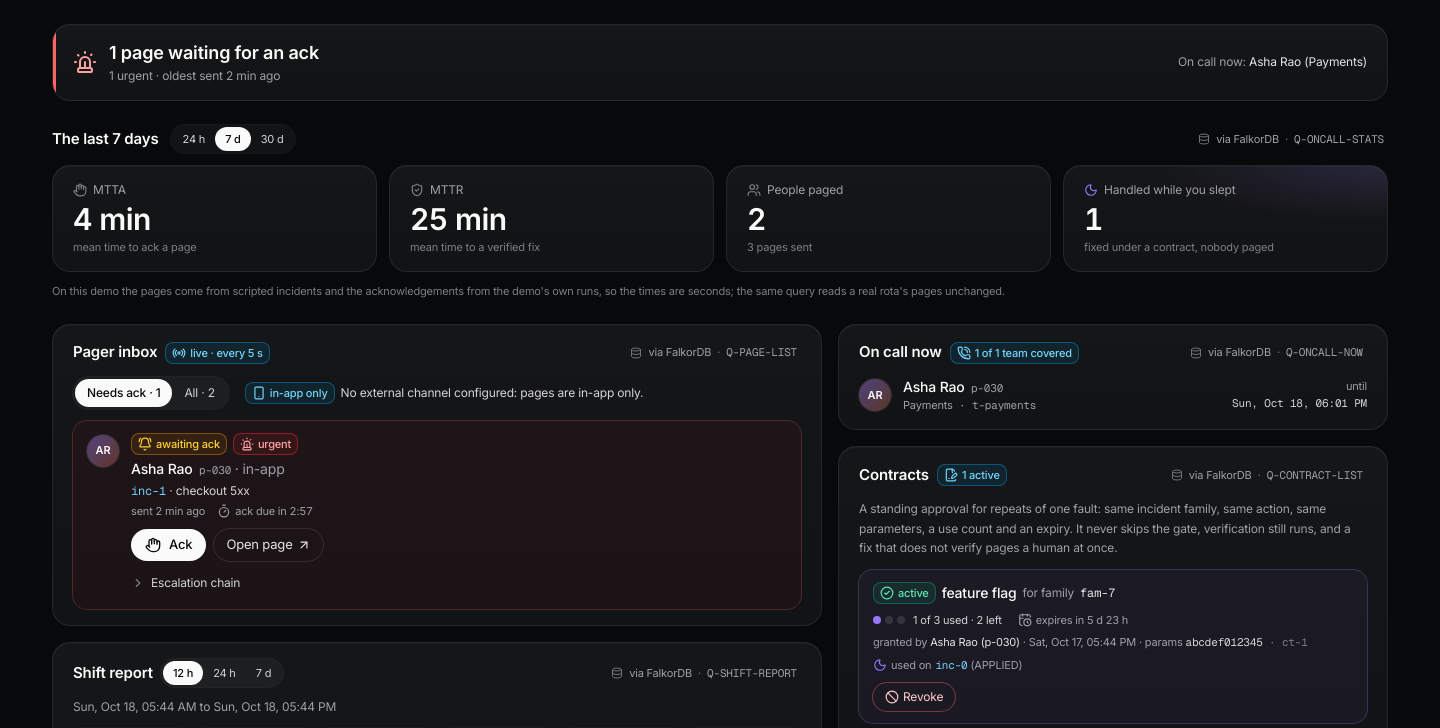
Test: /oncall › a refused ack opens the approver key field and says why
Click the button with aria-label "Ack the page to Asha Rao" at x=169, y=545, box [131,529,206,561]
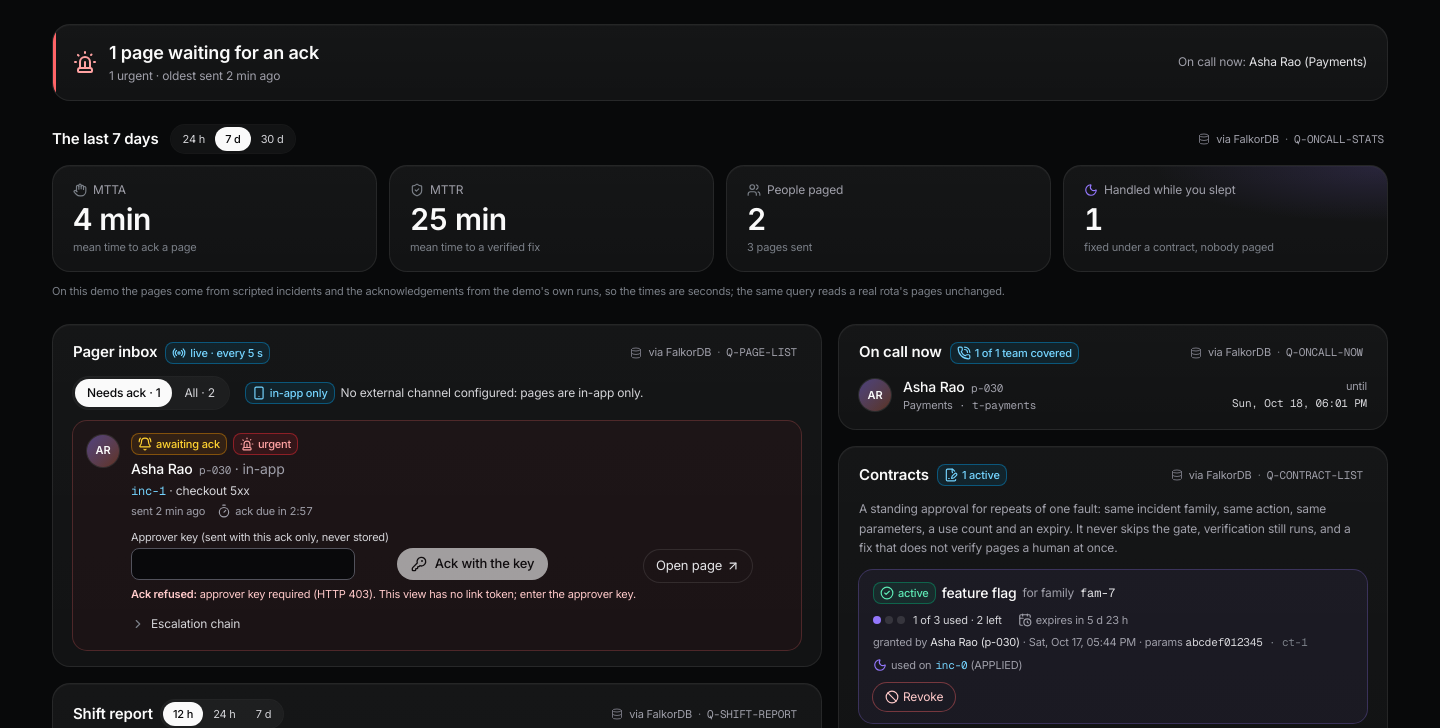
expect the password field labelled "Approver key (sent with this ack only, never stored)" is shown: met, box [131,548,355,580]
expect the message shows "Ack refused: approver key required (HTTP 403)": met, box [131,586,636,602]
